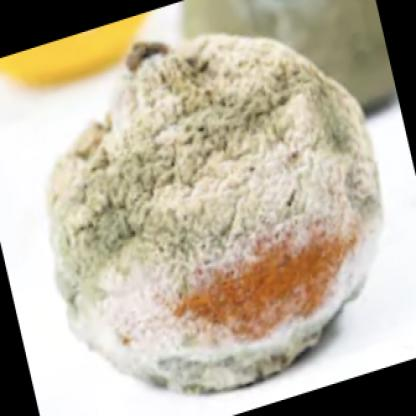rotten_orange: (32, 22, 391, 403)
